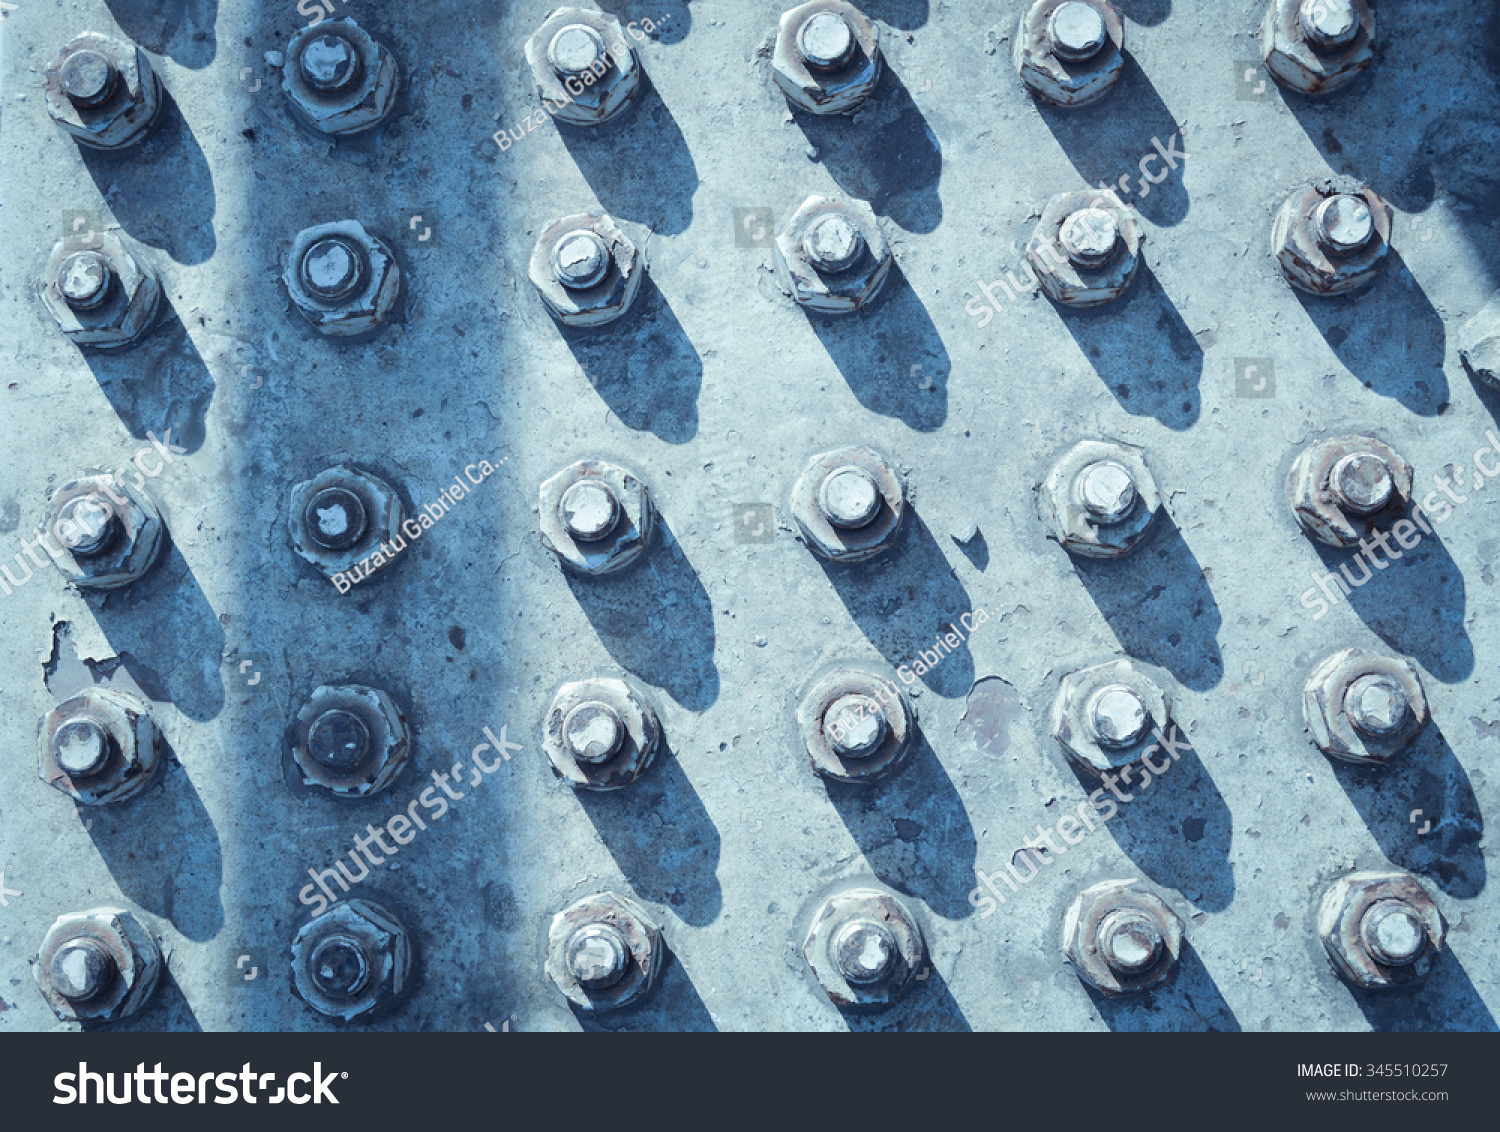bolt_b: (1318, 864, 1450, 1001), (1045, 648, 1176, 782), (1300, 642, 1433, 771), (795, 888, 927, 1014), (1061, 875, 1189, 1002), (787, 441, 912, 571), (34, 472, 166, 595), (540, 886, 661, 1018), (1040, 434, 1164, 561), (33, 683, 156, 811), (793, 665, 918, 790), (1273, 170, 1397, 296), (29, 907, 159, 1026), (286, 903, 406, 1030), (279, 15, 401, 140), (523, 207, 644, 331), (1292, 430, 1416, 552), (39, 30, 160, 152), (40, 228, 162, 351), (286, 464, 405, 587), (522, 4, 638, 130), (285, 218, 403, 341), (286, 684, 410, 801), (537, 457, 653, 581), (540, 677, 658, 797), (776, 191, 893, 314), (1027, 188, 1143, 306), (764, 4, 884, 117), (1010, 4, 1128, 109), (1258, 4, 1382, 98)
